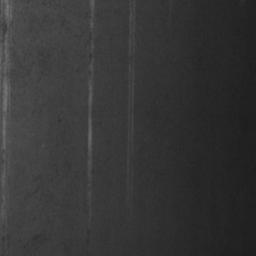Bright scratch: (87, 64, 95, 175)
